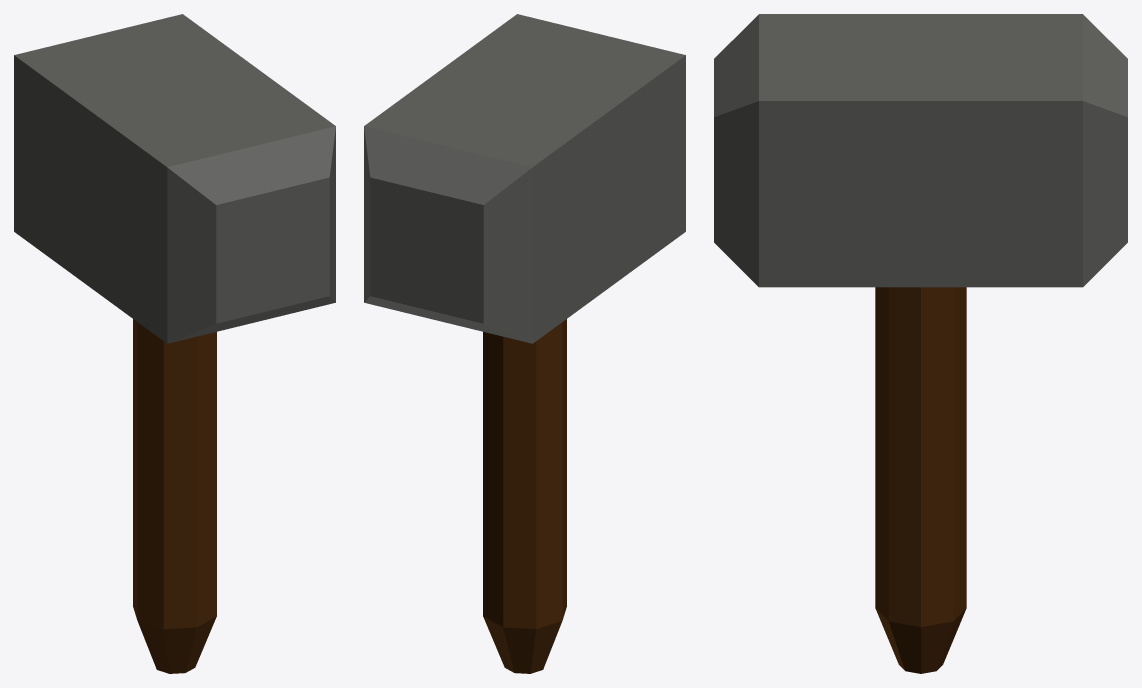
File: additem_2.fbx
3 views of the same model, side by side, from view 1: azimuth 30°, elevation 25°; view 2: azimuth 150°, elevation 25°; view 3: azimuth 270°, elevation 25° (orthographic). The views are drawn at different scales.
Visible parts, largest first — view 1: Cube; view 2: Cube; view 3: Cube.
Boxes of the visible parts, x1,y1,x2,y2 form: Cube: (14,14,335,673); Cube: (364,14,685,673); Cube: (714,14,1127,673).
Bounding box in the file's own units: 200 × 651 × 402.
